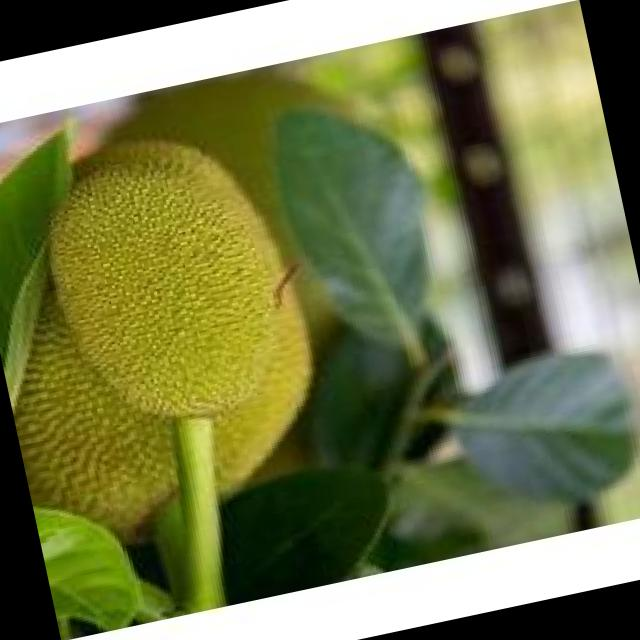Fruit: (0, 92, 375, 518)
